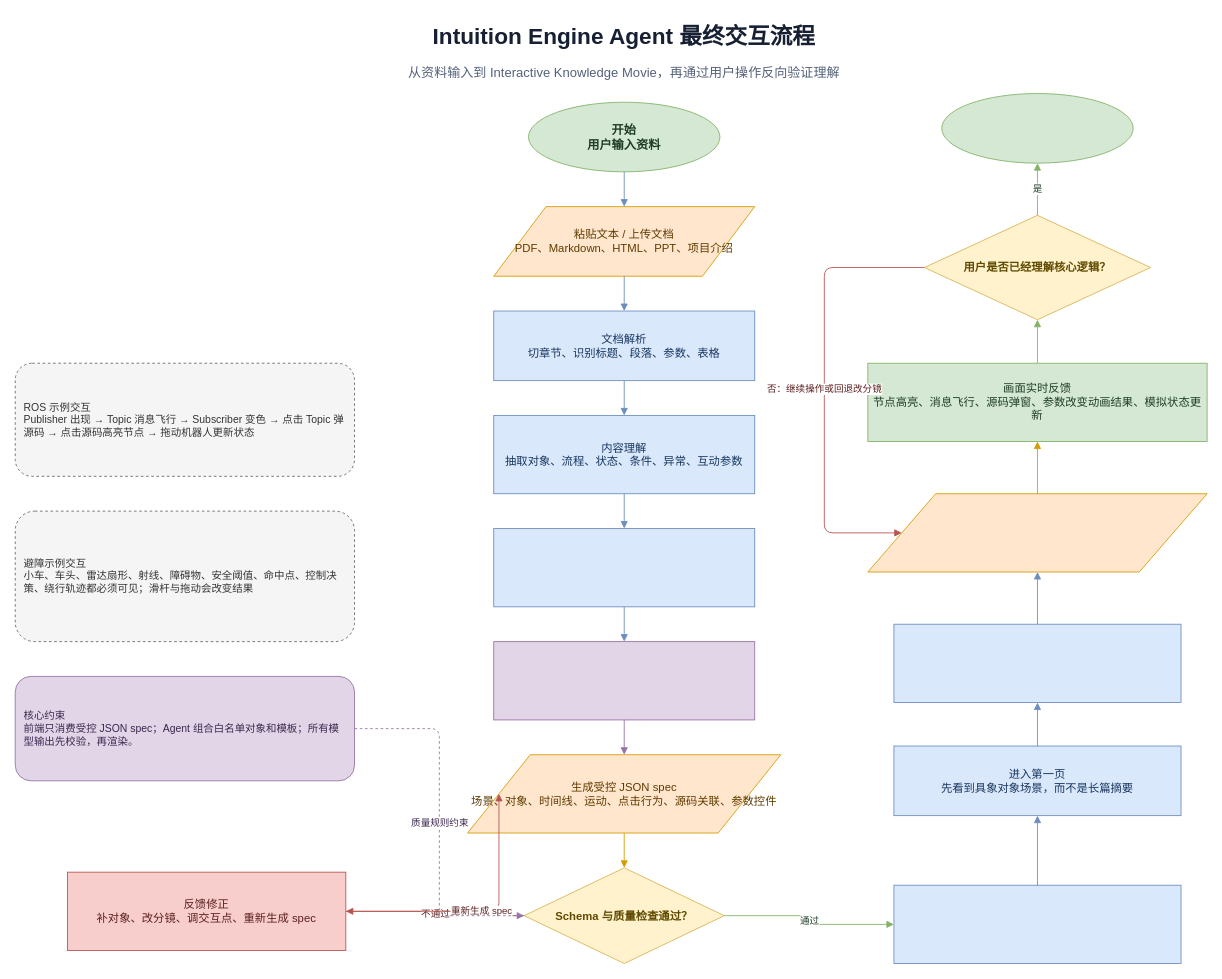
This 1222x979 diagram has some shape labels left out. The shapes that lost their labels are listed below. From the top down, each one's box as (x1, y1, x2, y2) in pixels, then its label:
(941, 93, 1133, 163): 完成 可分享、复用模板、沉淀案例
(867, 493, 1207, 572): 用户互动操作 点击对象、点击源码、拖动物体、调滑杆、播放 / 暂停 / 重置
(493, 528, 755, 607): 教学分镜生成 每个镜头定义画面对象、动作、旁白和交互点
(493, 641, 755, 720): 匹配对象库 / 模板库 ROS、机器人避障、API、状态机等复用模板
(893, 623, 1181, 703): 滚轮 / 时间轴 / 单步推进 镜头推进，对象出现，因果动画发生
(893, 884, 1181, 964): 前端渲染知识电影 Canvas / SVG / Three.js 消费 spec，不执行模型任意代码
